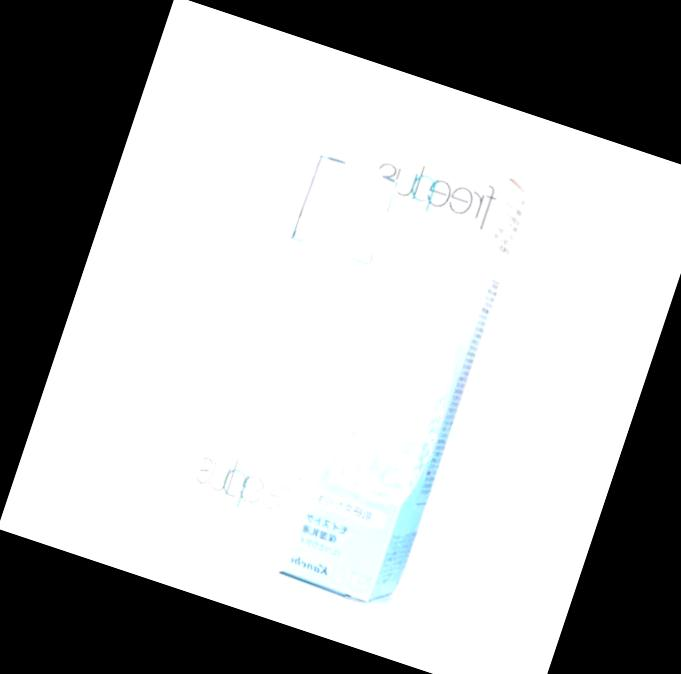cosmetic: (165, 143, 418, 581)
